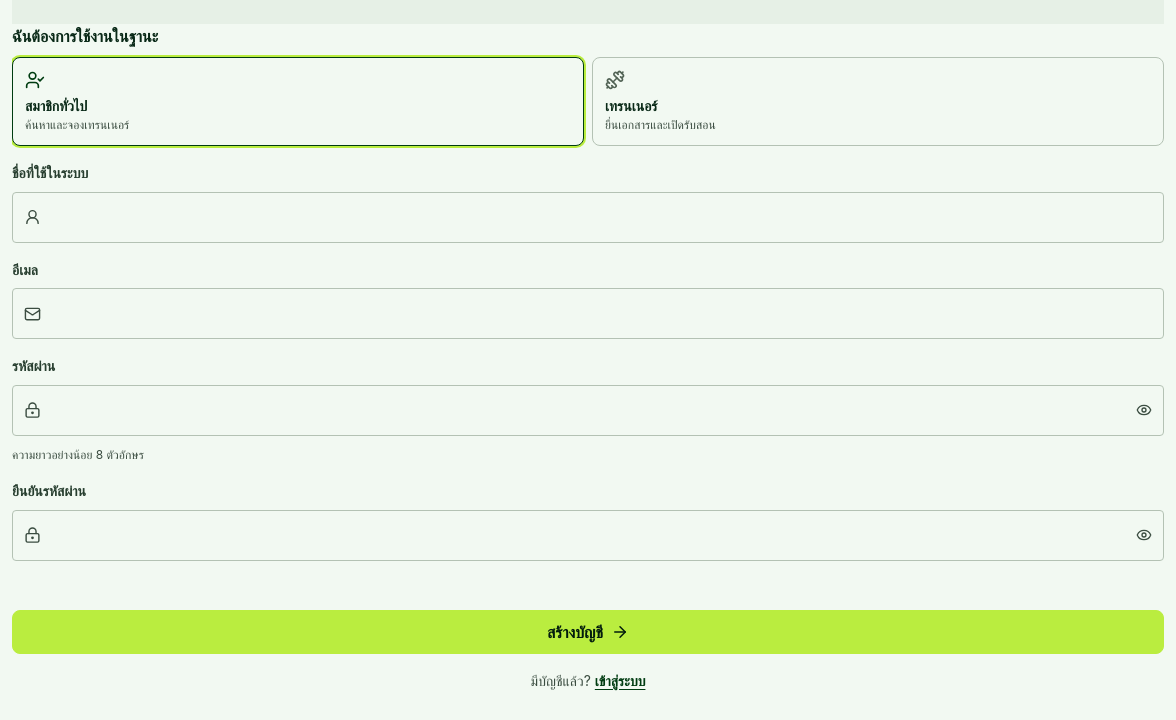
Test: AuthForm trainer onboarding and enhanced UX › does not offer the trainer status retry on the register form
The width and height of the screenshot is (1176, 720).
Type "เทรนเนอร์ทดสอบ" into the field labelled "ชื่อที่ใช้ในระบบ" at coordinates (588, 217), box [12,192,1164,243]
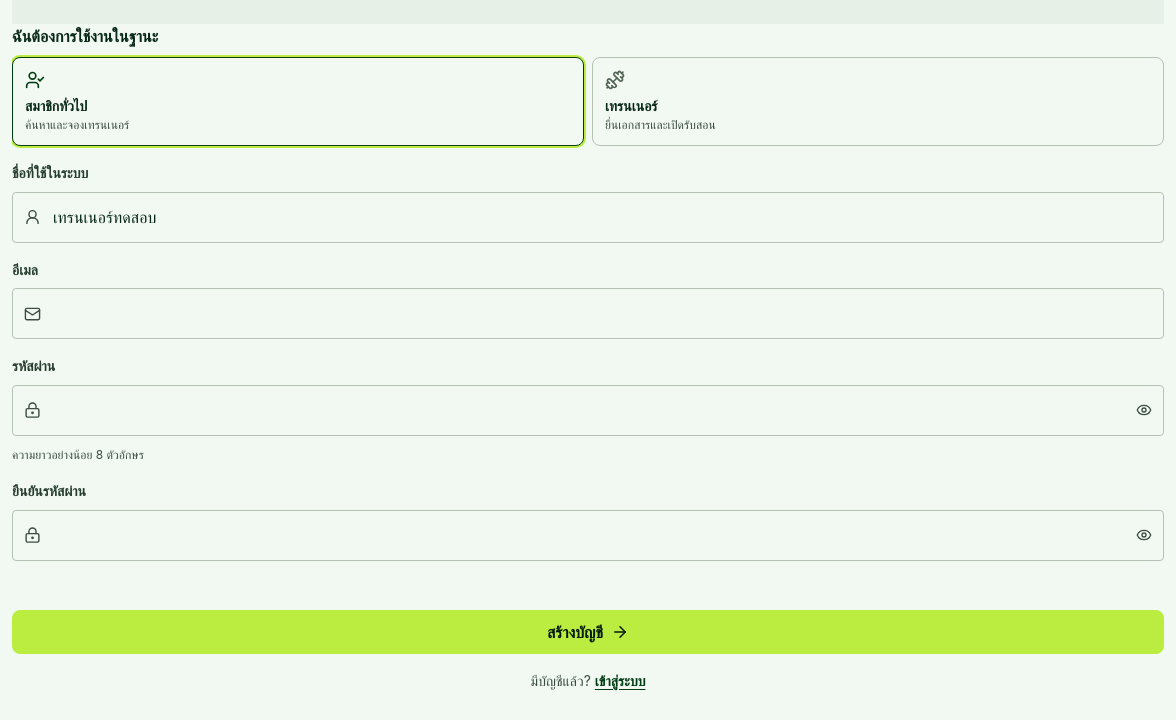
Click the radio button labelled "เทรนเนอร์ ยื่นเอกสารและเปิดรับสอน" at coordinates (631, 105), box [592,57,1164,146]
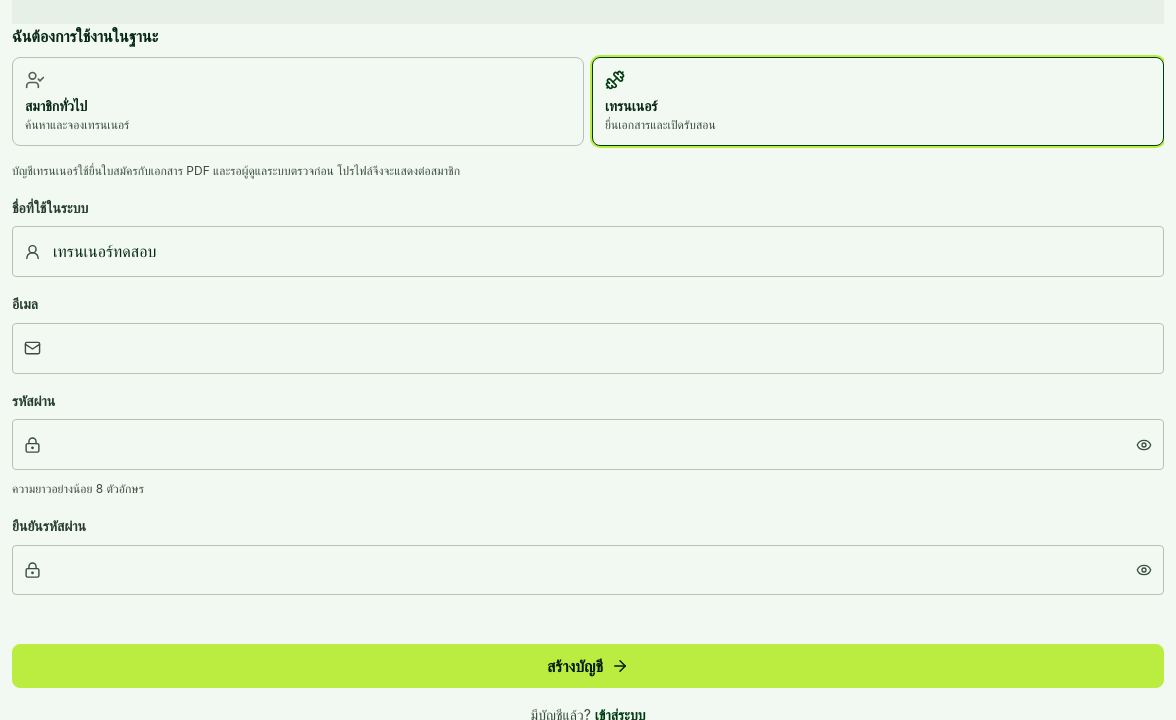
Type "password123" into the password field labelled "ยืนยันรหัสผ่าน" at coordinates (588, 570), box [12,544,1164,595]
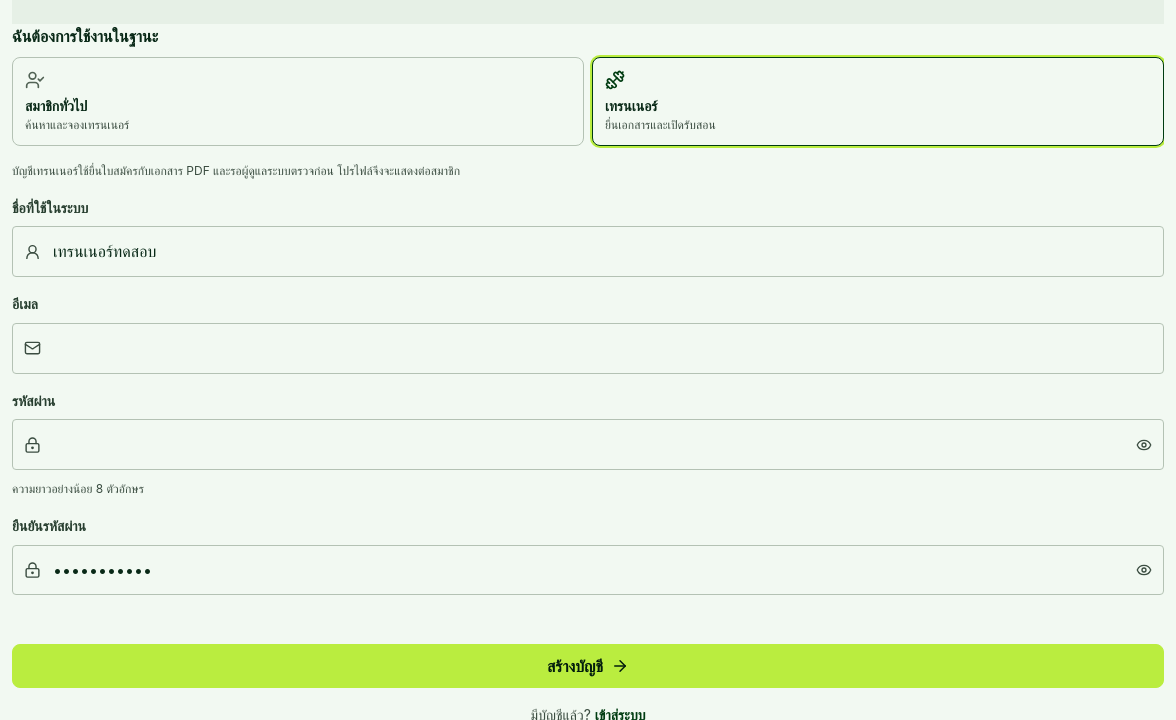
Type "trainer@fitconnect.test" into the field labelled "อีเมล" at coordinates (588, 348), box [12,323,1164,374]
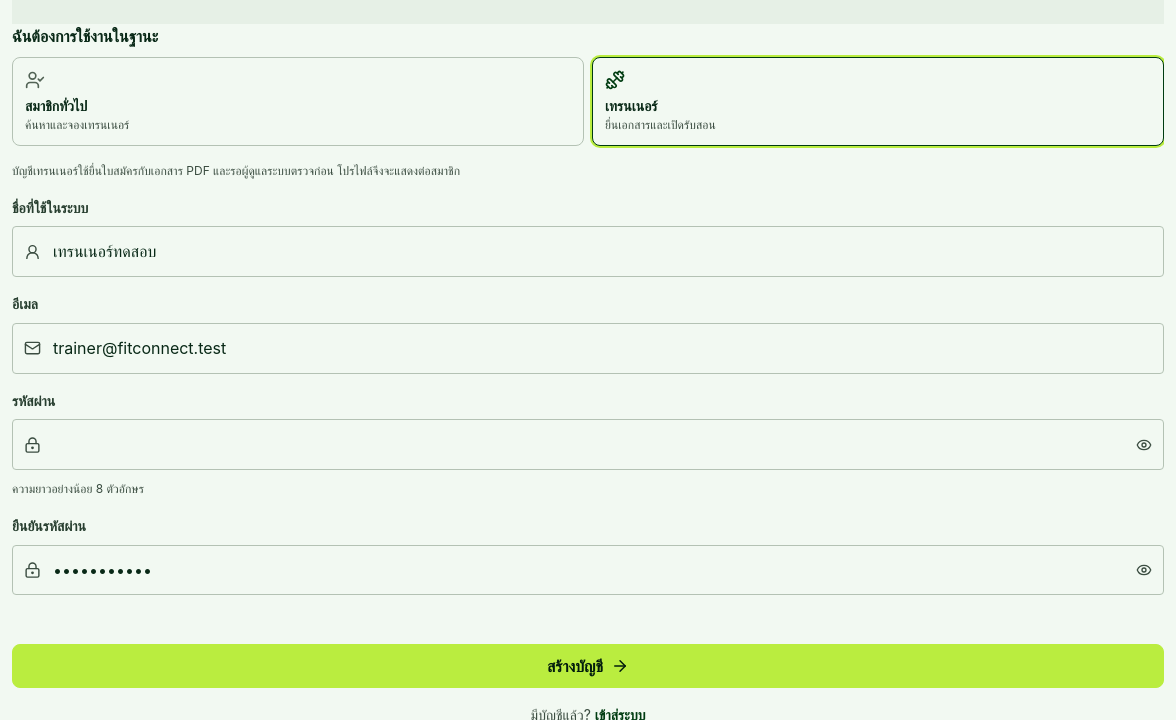
Type "password123" into the password field labelled "รหัสผ่าน" at coordinates (588, 445), box [12,419,1164,470]
(page scrolled)
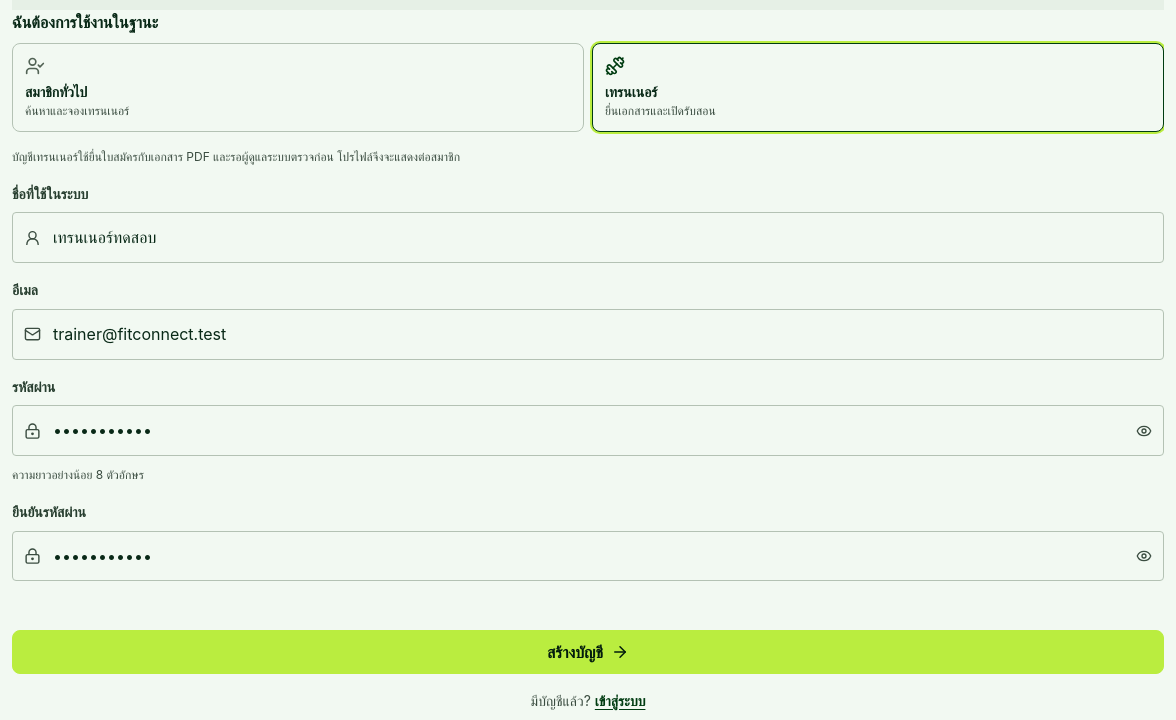
Submit the form named "สร้างบัญชี"
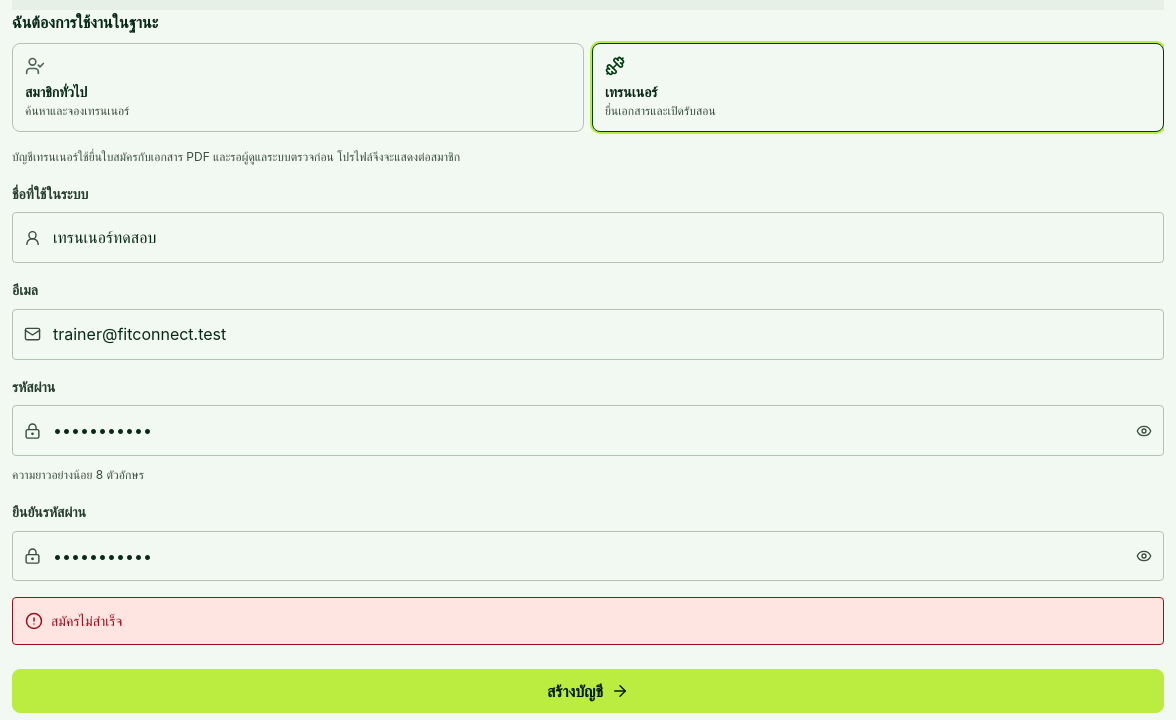
Check: the message reads "สมัครไม่สำเร็จ", box [51,612,122,629]
